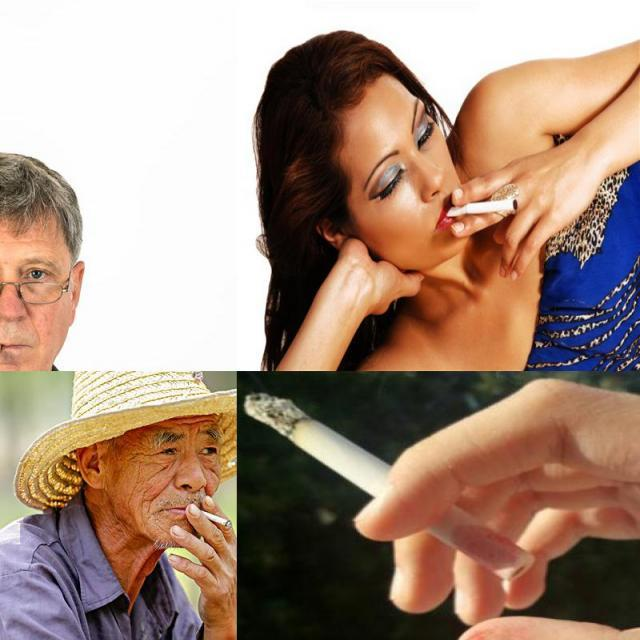cigarette: (242, 390, 536, 580), (446, 197, 518, 215), (192, 508, 234, 528), (0, 337, 6, 370)
